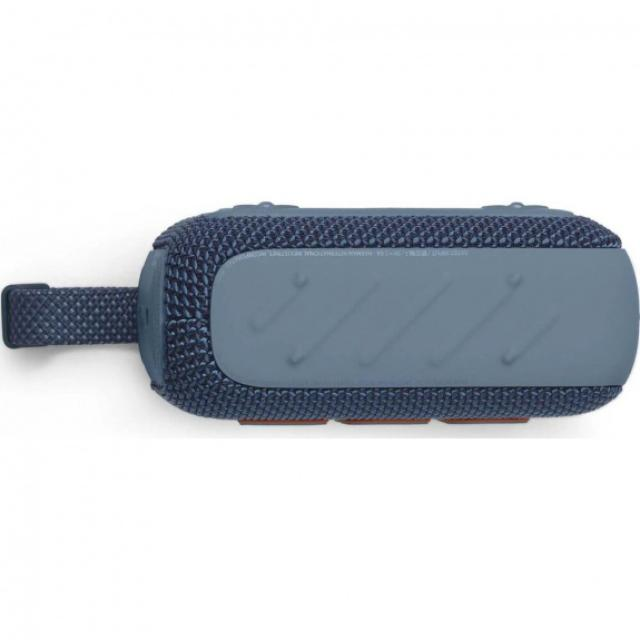column JBL: (2, 203, 638, 423)
